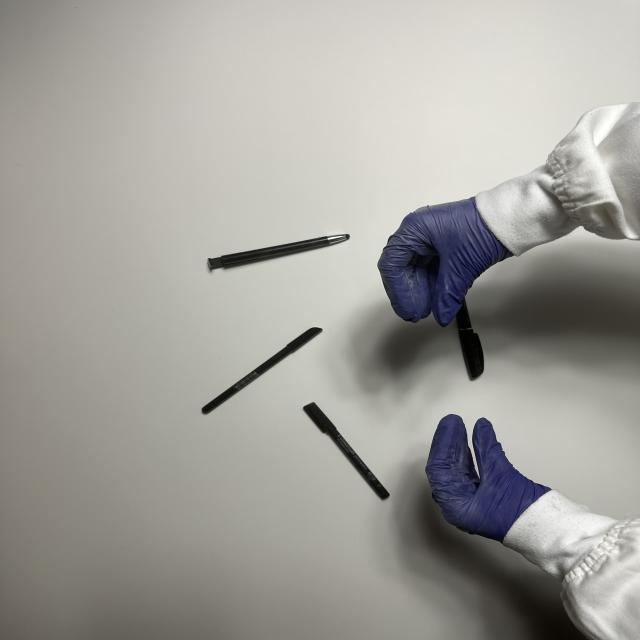gloves_contaminated: (378, 198, 512, 326), (426, 414, 550, 542)
